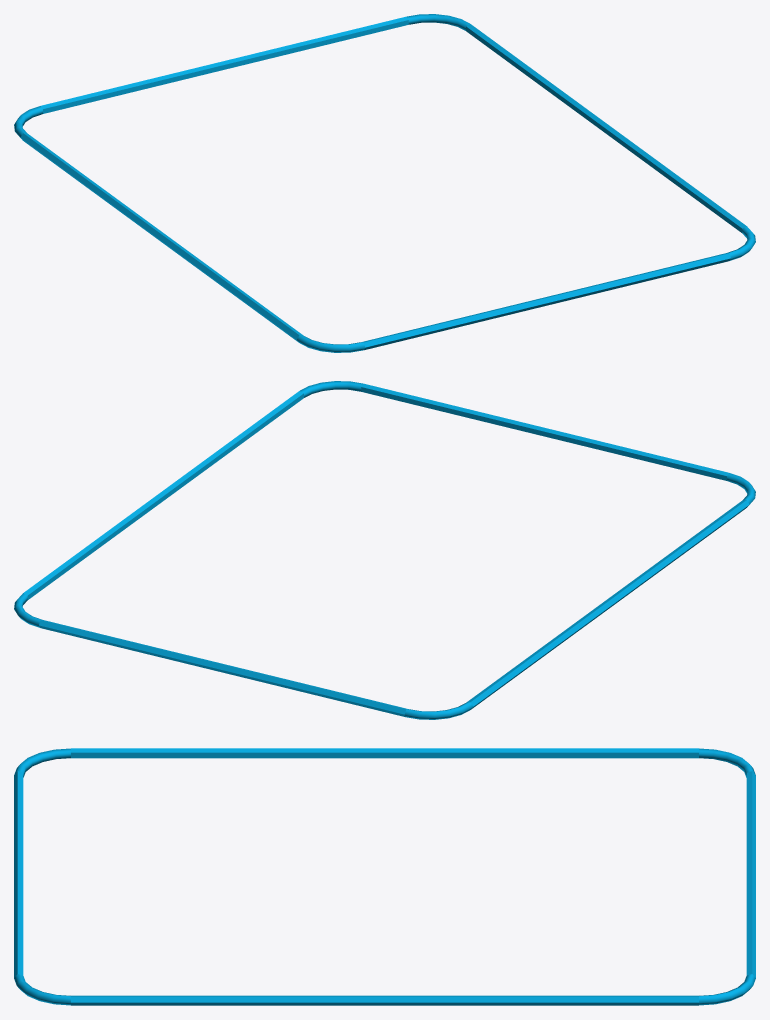
The model's file is House_Fridge_01_Grid_Lod0.fbx.
3 views of the same model, one above another, from view 1: azimuth 30°, elevation 25°; view 2: azimuth 150°, elevation 25°; view 3: azimuth 270°, elevation 25° (orthographic). The views are drawn at different scales.
Visible parts, largest first — view 1: House_Fridge_01_Grid_Lod0; view 2: House_Fridge_01_Grid_Lod0; view 3: House_Fridge_01_Grid_Lod0.
Boxes of the visible parts, x1,y1,x2,y2 form: House_Fridge_01_Grid_Lod0: (14, 14, 755, 352); House_Fridge_01_Grid_Lod0: (14, 381, 755, 719); House_Fridge_01_Grid_Lod0: (14, 748, 755, 1005).
Bounding box in the file's own units: 37.65 × 0.6257 × 47.01.
